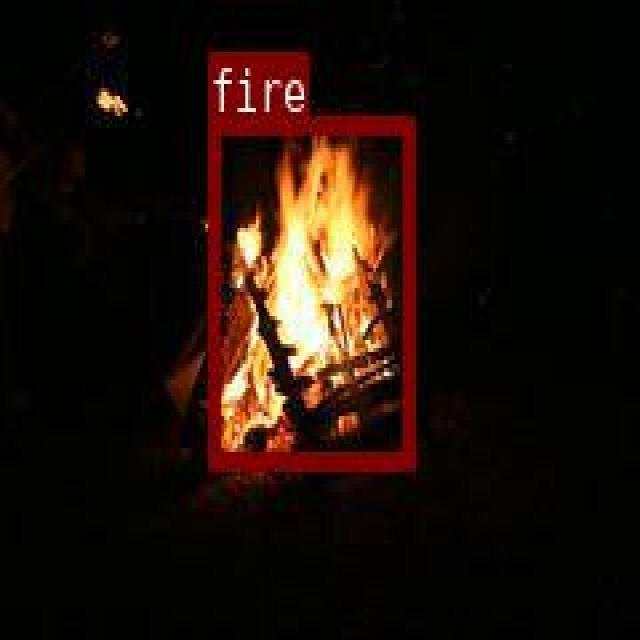fire: (207, 116, 412, 466)
